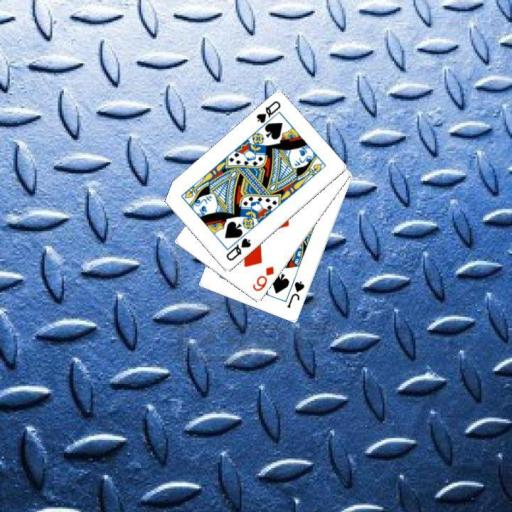6D: (250, 263, 276, 293)
JS: (284, 278, 306, 309)
QS: (223, 235, 253, 262), (253, 98, 282, 125)
